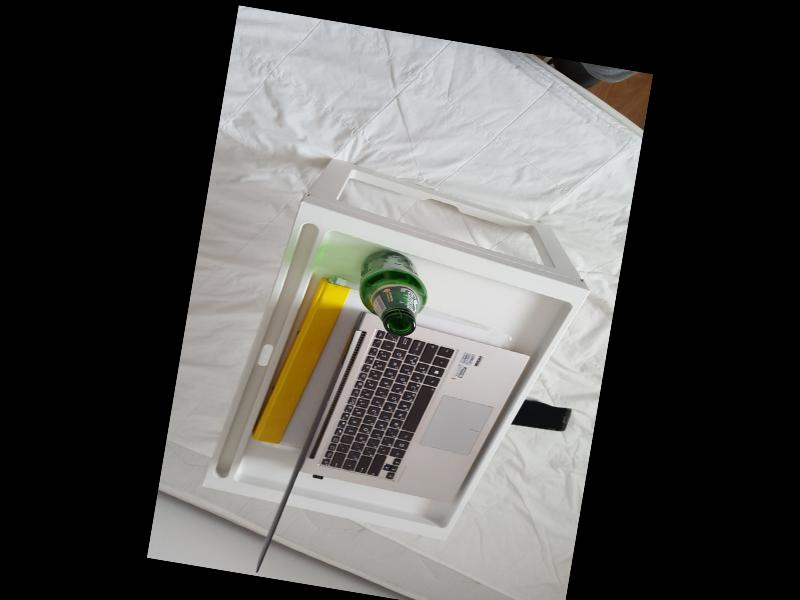Beer: (351, 245, 434, 338)
